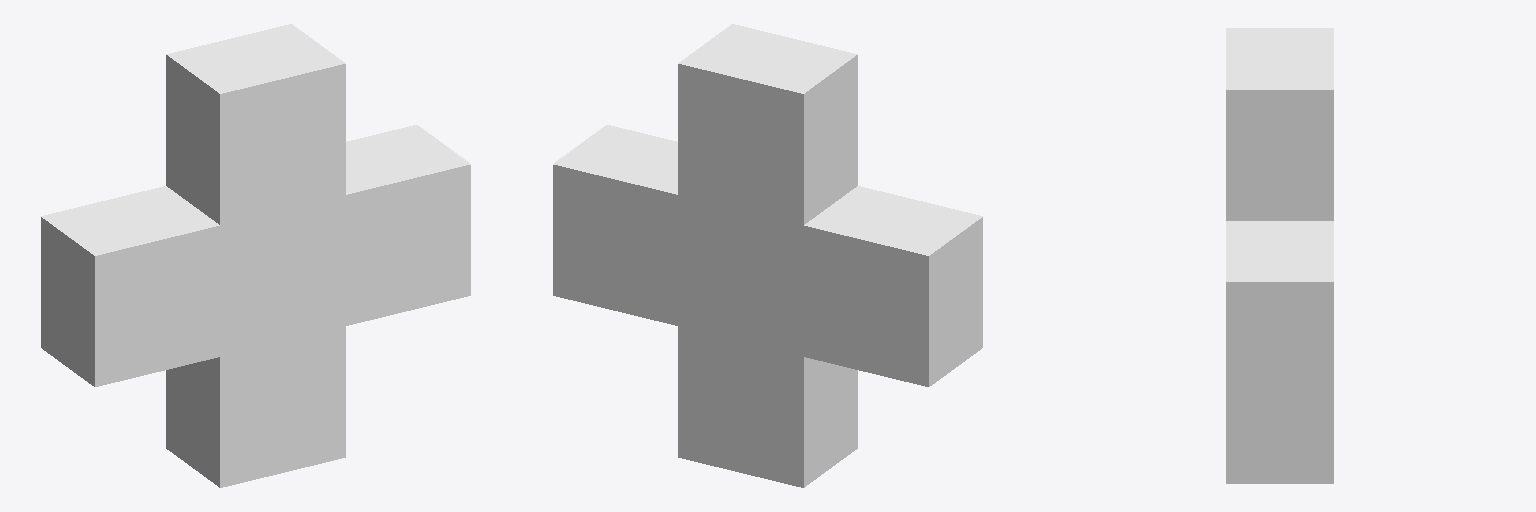
The model's file is heal.obj.
The picture shows the model from 3 angles: view 1: azimuth 30°, elevation 25°; view 2: azimuth 150°, elevation 25°; view 3: azimuth 270°, elevation 25°; orthographic projection.
Visible parts, largest first — view 1: object 1; view 2: object 1; view 3: object 1.
Boxes of the visible parts, <box> form: object 1: <box>41,24,470,487</box>; object 1: <box>553,24,982,487</box>; object 1: <box>1226,28,1333,483</box>.
Bounding box in the file's own units: 1.2 × 1.2 × 0.3.